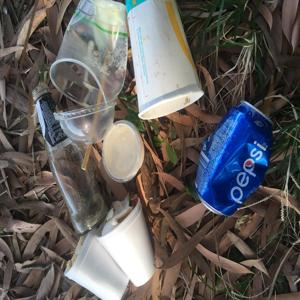cardboard: (127, 1, 207, 126), (100, 198, 162, 284), (64, 232, 135, 299)
glass: (23, 75, 112, 238)
metal: (187, 96, 285, 221)
plastic: (49, 1, 133, 109), (57, 100, 119, 145), (104, 120, 148, 181)
